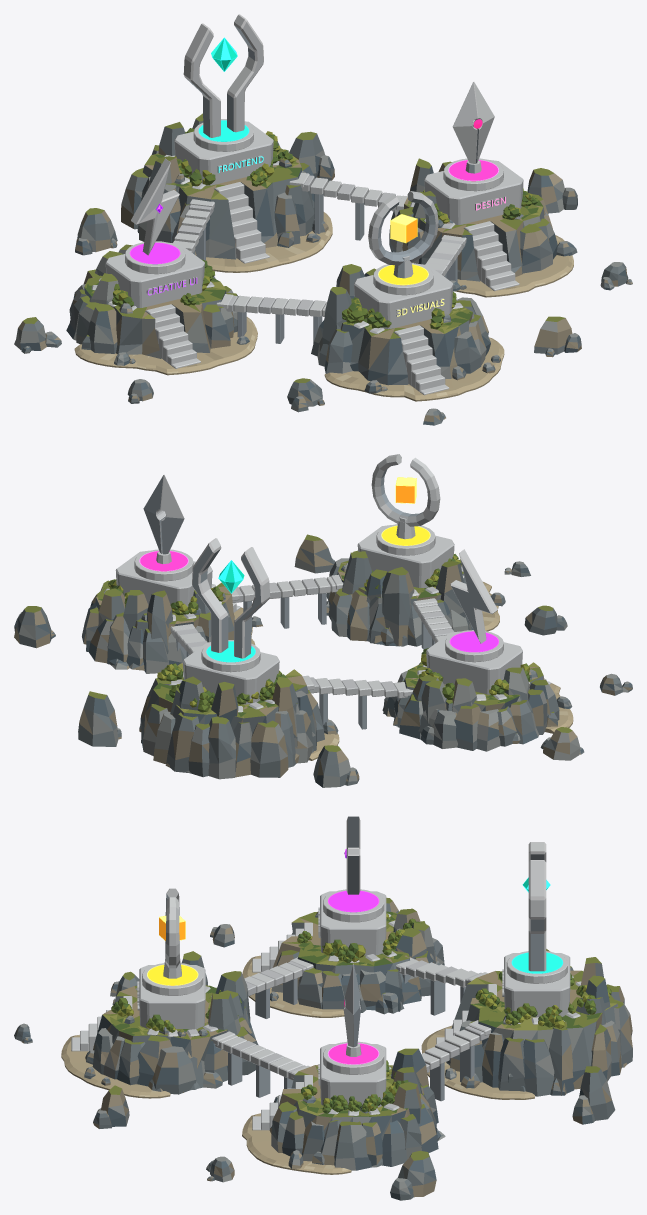
Rendered from tech_grove_web_draco.glb.
The picture shows the model from 3 angles, top to bottom: view 1: azimuth 30°, elevation 25°; view 2: azimuth 150°, elevation 25°; view 3: azimuth 270°, elevation 25°; orthographic projection. The views are drawn at different scales.
Visible parts, largest first — view 1: Static_WebGL, Static_Frontend, Static_Creative, Static_Design, Static_Surrounding_Rocks, Static_Bridges, Statue_Frontend, Statue_WebGL, Statue_Design, Statue_Creative, Glow_Creative_Inset, Gem_WebGL_Core (+2 smaller); view 2: Static_Frontend, Static_Creative, Static_WebGL, Static_Design, Static_Surrounding_Rocks, Static_Bridges, Statue_Frontend, Statue_WebGL, Statue_Design, Statue_Creative, Glow_Creative_Inset, Glow_Design_Inset (+3 smaller); view 3: Static_Frontend, Static_Design, Static_WebGL, Static_Creative, Static_Bridges, Static_Surrounding_Rocks, Statue_Frontend, Statue_WebGL, Statue_Design, Statue_Creative, Glow_Creative_Inset, Glow_Design_Inset (+2 smaller).
Boxes of the visible parts, bbox=[...] form: Static_WebGL: bbox=[311, 262, 504, 401]; Static_Frontend: bbox=[121, 113, 332, 272]; Static_Creative: bbox=[66, 241, 257, 375]; Static_Design: bbox=[389, 158, 573, 297]; Static_Surrounding_Rocks: bbox=[14, 131, 632, 425]; Static_Bridges: bbox=[173, 172, 466, 343]; Statue_Frontend: bbox=[183, 14, 263, 137]; Statue_WebGL: bbox=[368, 191, 438, 278]; Statue_Design: bbox=[452, 82, 494, 173]; Statue_Creative: bbox=[131, 158, 179, 255]; Glow_Creative_Inset: bbox=[130, 243, 179, 264]; Gem_WebGL_Core: bbox=[390, 214, 417, 242]; Static_Frontend: bbox=[139, 640, 339, 779]; Static_Creative: bbox=[382, 630, 573, 751]; Static_WebGL: bbox=[326, 524, 499, 646]; Static_Design: bbox=[82, 549, 255, 673]; Static_Surrounding_Rocks: bbox=[14, 534, 632, 787]; Static_Bridges: bbox=[170, 574, 454, 729]; Statue_Frontend: bbox=[192, 538, 270, 658]; Statue_WebGL: bbox=[371, 454, 440, 539]; Statue_Design: bbox=[143, 474, 184, 563]; Statue_Creative: bbox=[450, 549, 497, 643]; Glow_Creative_Inset: bbox=[450, 631, 498, 652]; Glow_Design_Inset: bbox=[140, 551, 187, 571]; Static_Frontend: bbox=[421, 949, 632, 1099]; Static_Design: bbox=[242, 1041, 445, 1174]; Static_WebGL: bbox=[61, 951, 258, 1098]; Static_Creative: bbox=[242, 889, 444, 1017]; Static_Bridges: bbox=[212, 957, 491, 1101]; Static_Surrounding_Rocks: bbox=[14, 897, 615, 1200]; Statue_Frontend: bbox=[528, 842, 546, 971]; Statue_WebGL: bbox=[163, 888, 181, 978]; Statue_Design: bbox=[343, 964, 361, 1056]; Statue_Creative: bbox=[346, 816, 360, 894]; Glow_Creative_Inset: bbox=[328, 891, 378, 912]; Glow_Design_Inset: bbox=[328, 1043, 378, 1064].
Bounding box in the file's own units: 22.46 × 7.71 × 20.87.
